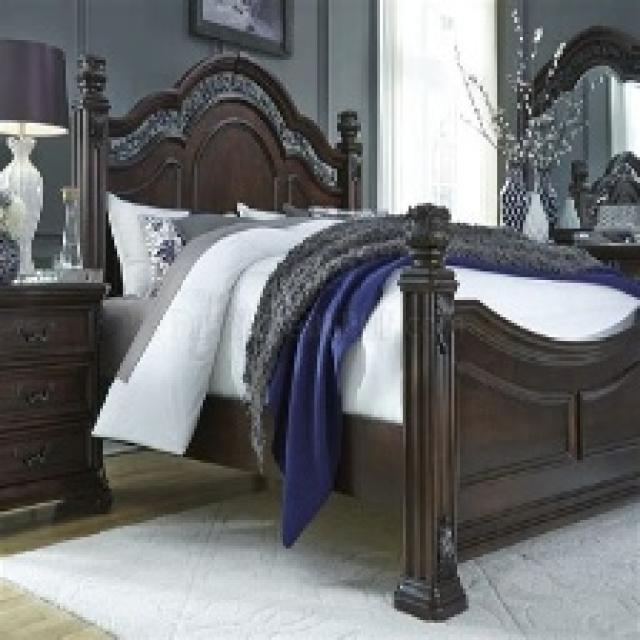Bed: (69, 49, 637, 620)
